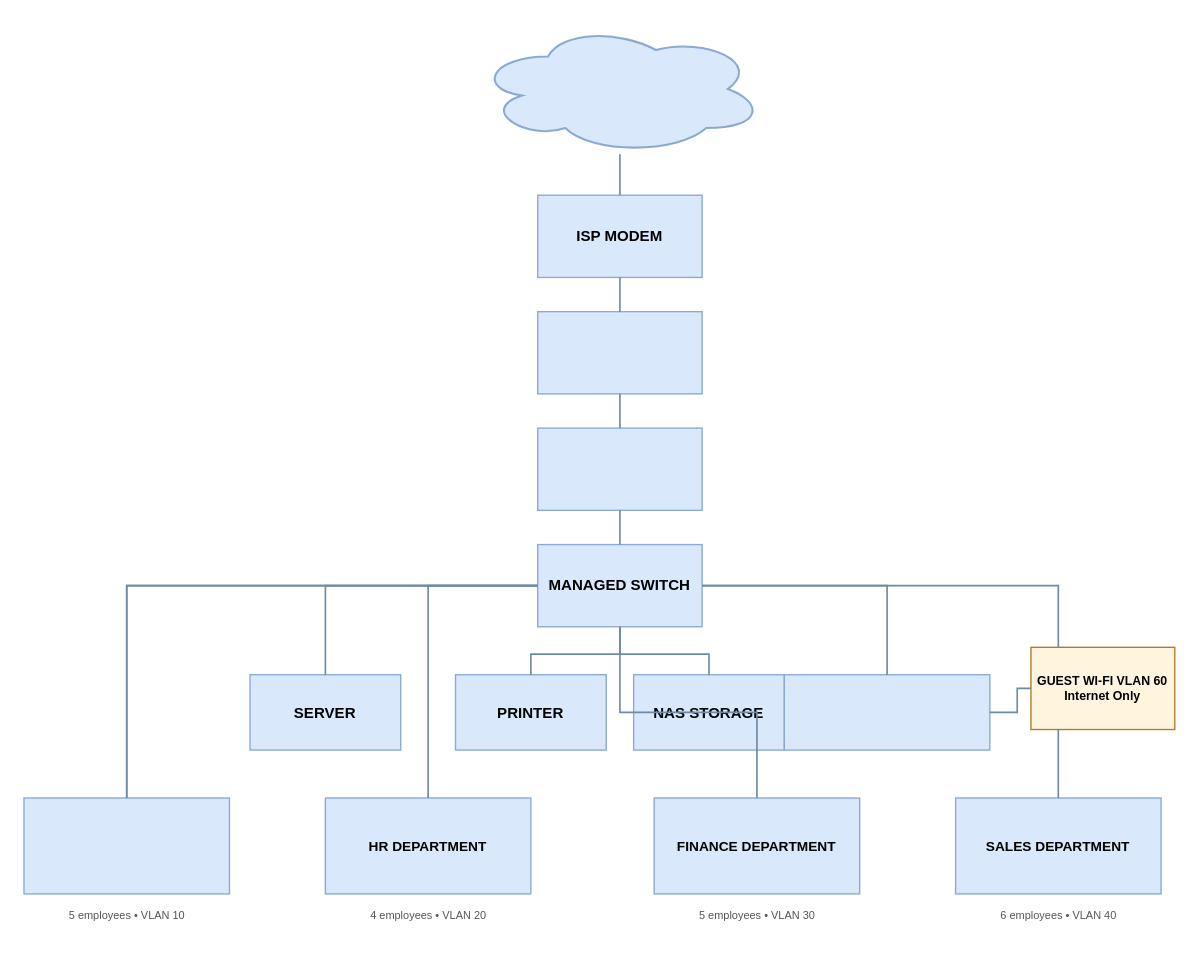
This 1199x955 diagram has some shape labels left out. Here are the shapes that lost their labels. From the top down, the box of each, then its label:
(474, 22, 764, 155): INTERNET
(536, 310, 702, 394): ROUTER
(536, 427, 702, 510): FIREWALL
(783, 673, 990, 750): WIRELESS ACCESS POINTS (3)
(23, 797, 229, 894): IT DEPARTMENT
